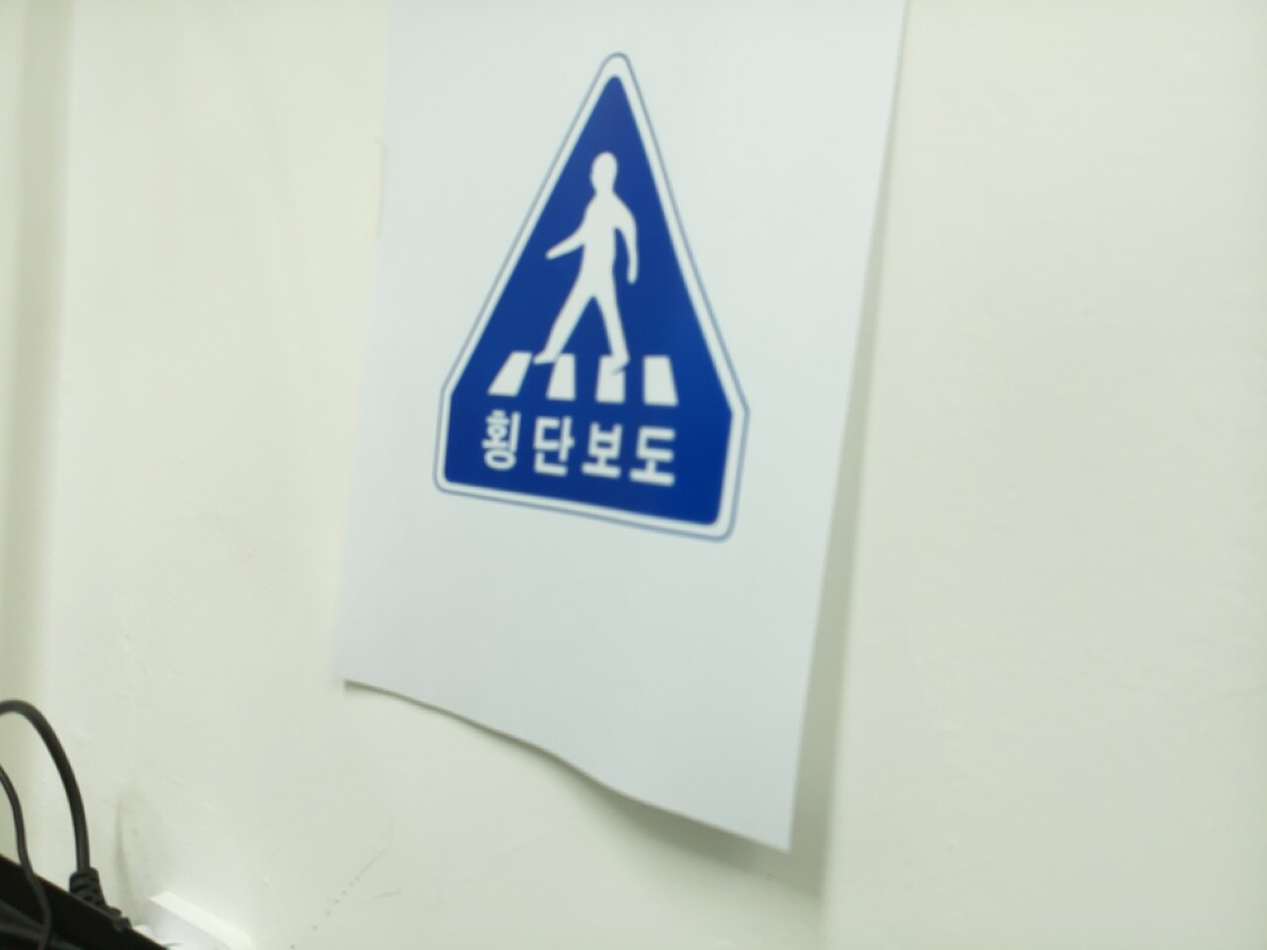crosswalk: (434, 63, 742, 538)
